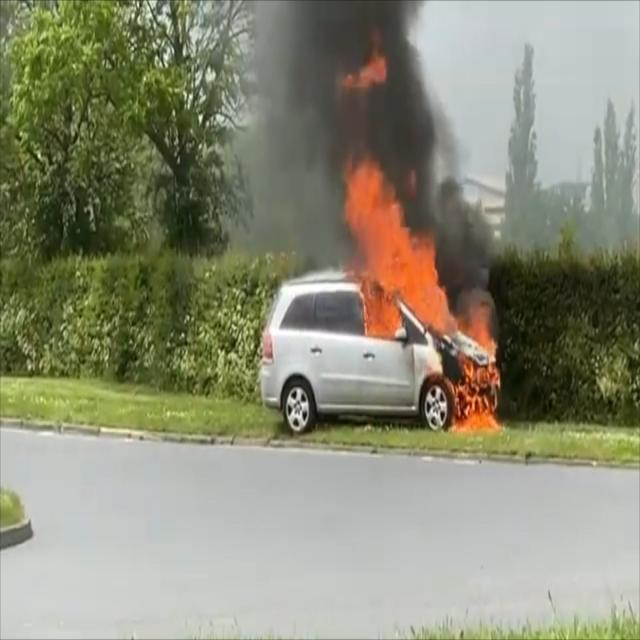fire: (343, 99, 504, 437)
